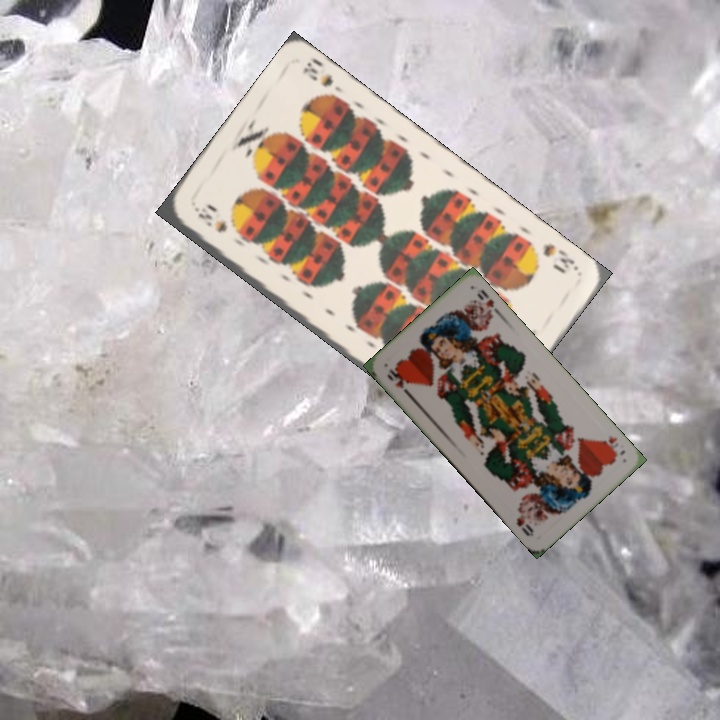HO: (383, 365, 413, 399), (597, 431, 628, 459)
S10: (538, 239, 581, 277), (190, 203, 230, 235)
